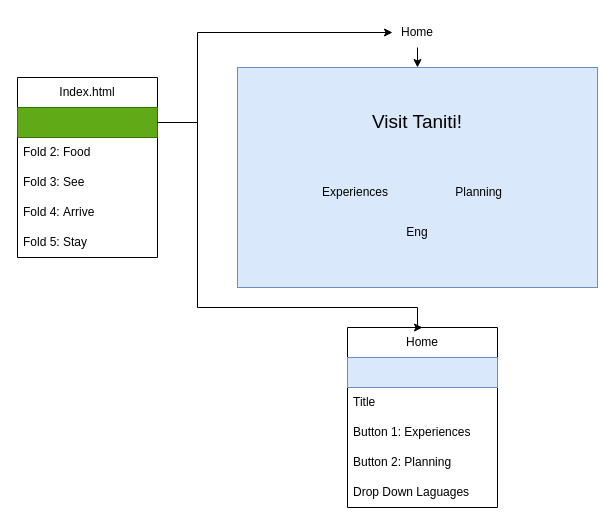
Image size: 615x525. Some labels were removed from this diagram. The shapes that lost their labels are listed below. From the top down, each one's box as (x1, y1, x2, y2) in pixels, then its label:
(16, 106, 158, 138): Fold 1: Home
(346, 356, 498, 388): Background halo image 1
